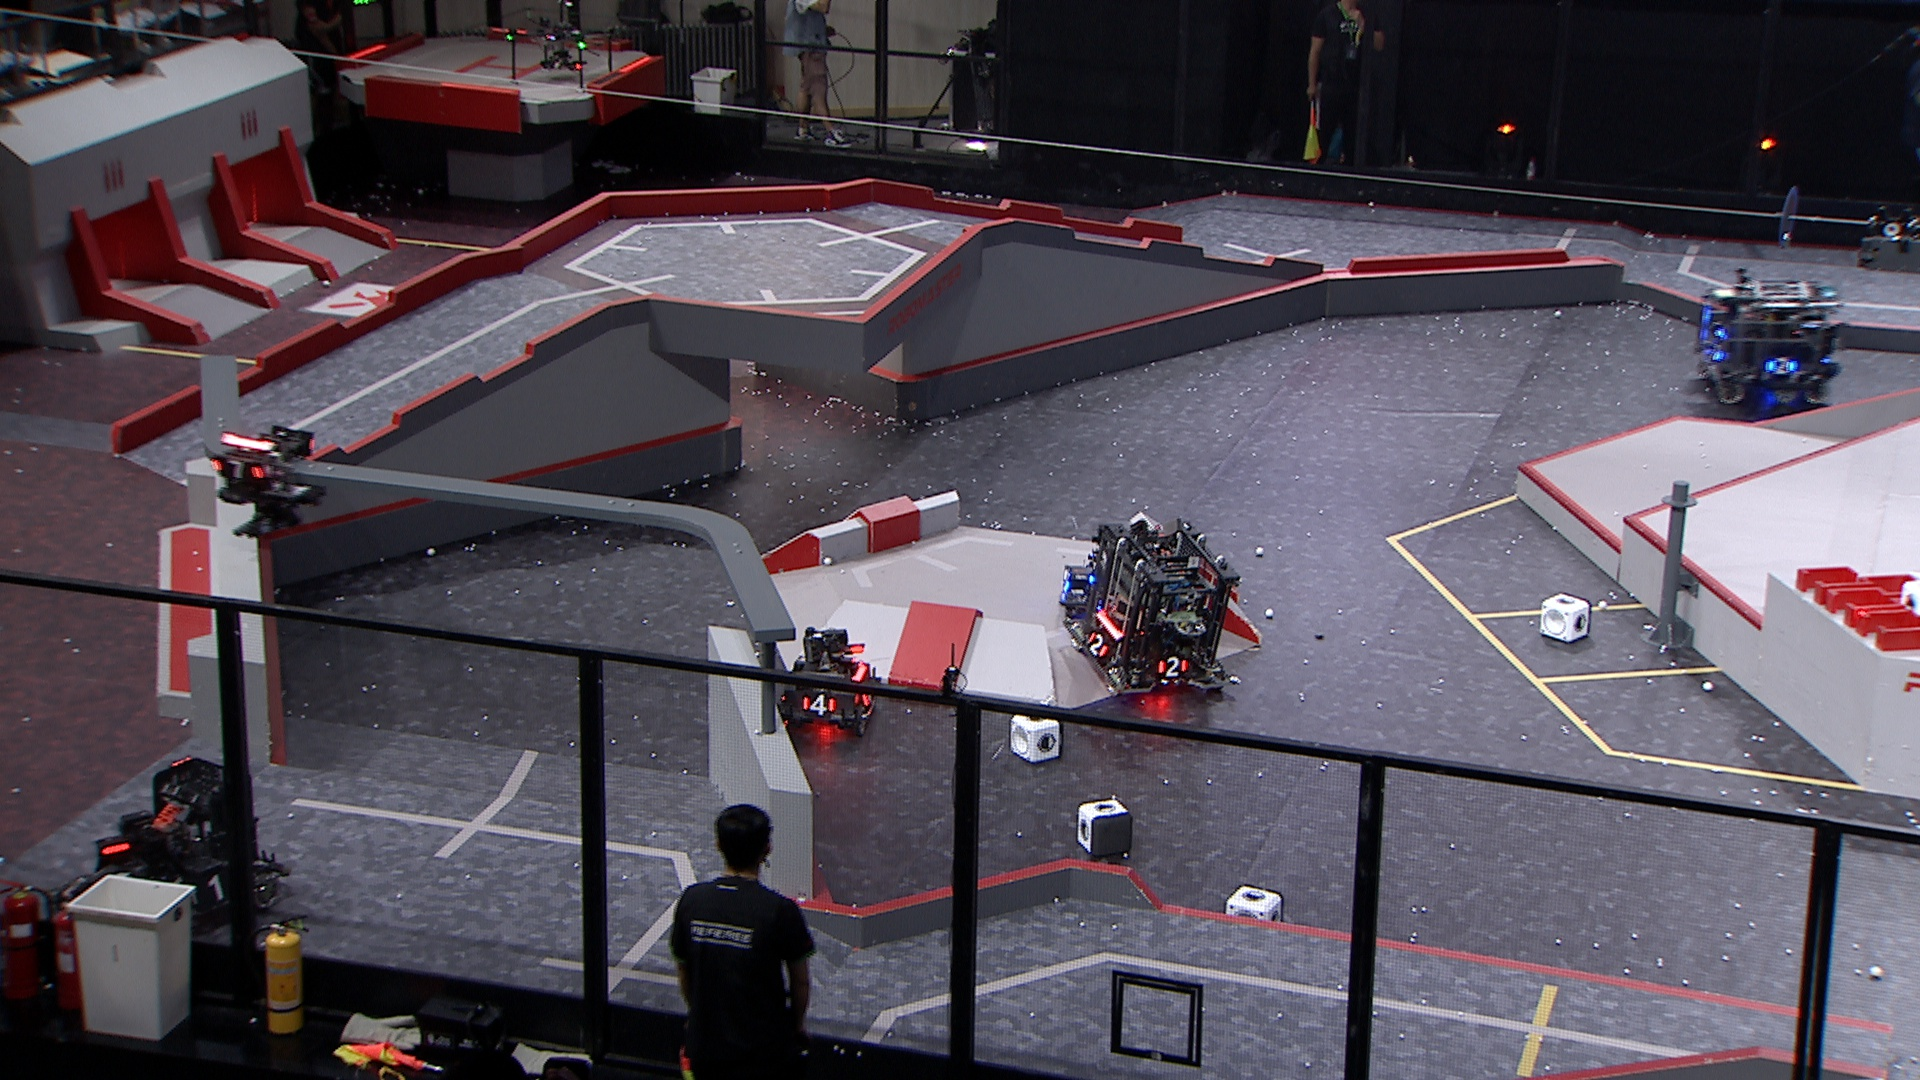armor: (210, 455, 266, 483), (185, 874, 233, 906), (800, 692, 839, 717), (1156, 654, 1188, 680), (1084, 632, 1112, 657), (1768, 357, 1799, 377), (1705, 342, 1727, 367)
car: (59, 756, 289, 945), (1065, 520, 1240, 700), (1693, 268, 1841, 409), (770, 626, 878, 736), (1059, 533, 1164, 622)
watcher: (208, 423, 330, 542)
